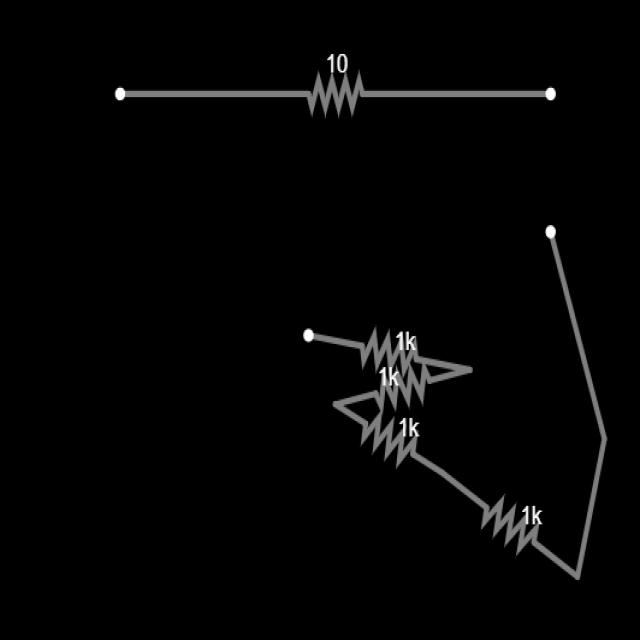Resistor: (359, 404, 419, 474), (373, 356, 433, 419), (481, 495, 539, 554), (361, 321, 420, 378), (308, 72, 364, 117)
Wire: (545, 223, 606, 442), (574, 433, 609, 582), (410, 450, 489, 509), (359, 87, 556, 100), (115, 89, 310, 100), (535, 539, 580, 581), (302, 328, 365, 349), (330, 388, 379, 409), (416, 355, 473, 372), (337, 402, 372, 428), (430, 366, 473, 384)
